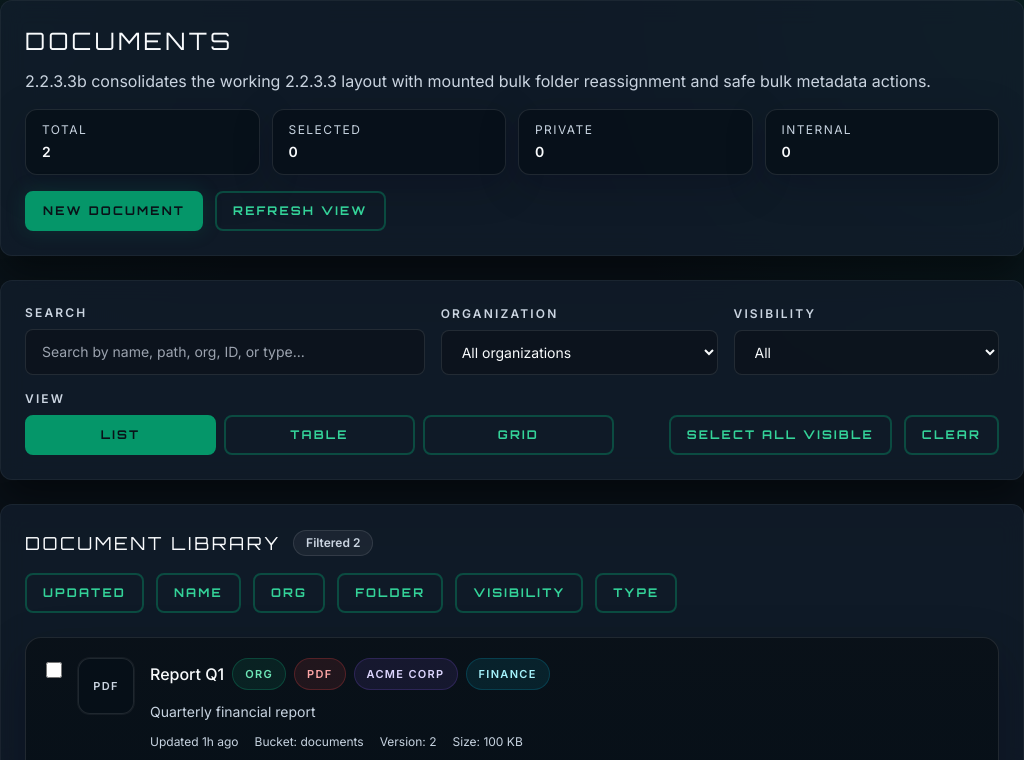
Test: AdminDocumentsCenterClient › organization filter › filters by organization
Select "Other Inc" in the dropdown showing "All organizations" at (579, 352), box [441,330,718,375]
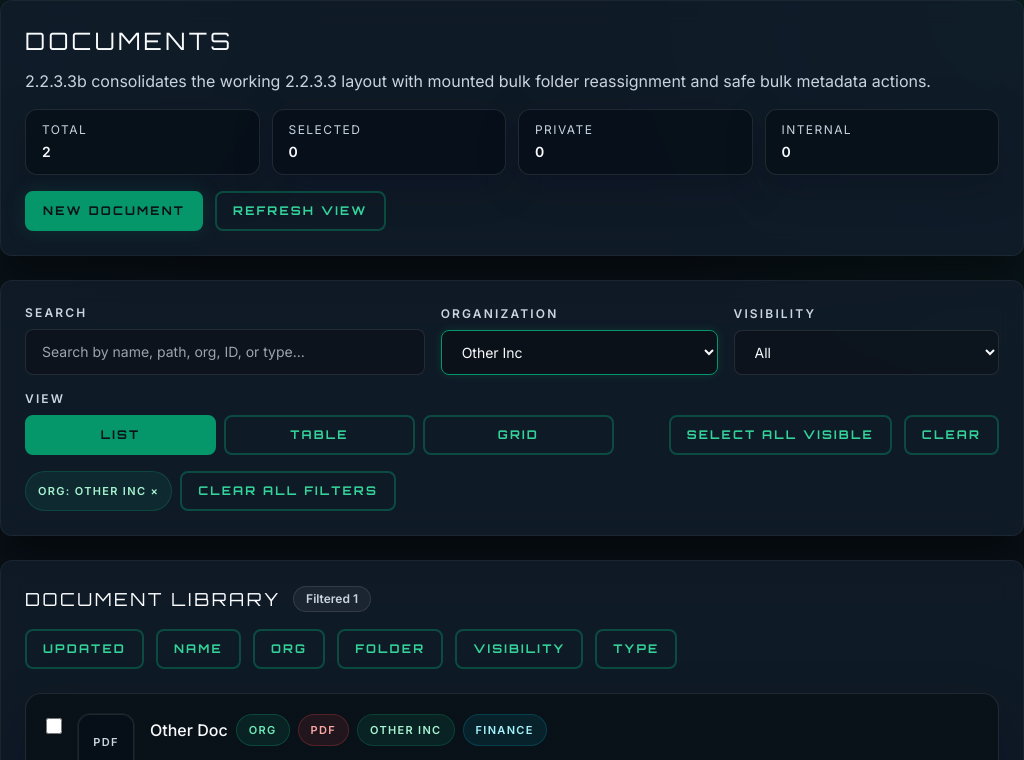
Check: the button "Other Doc" is shown, box [150,718,228,742]
Check: the button "Report Q1" is gone
